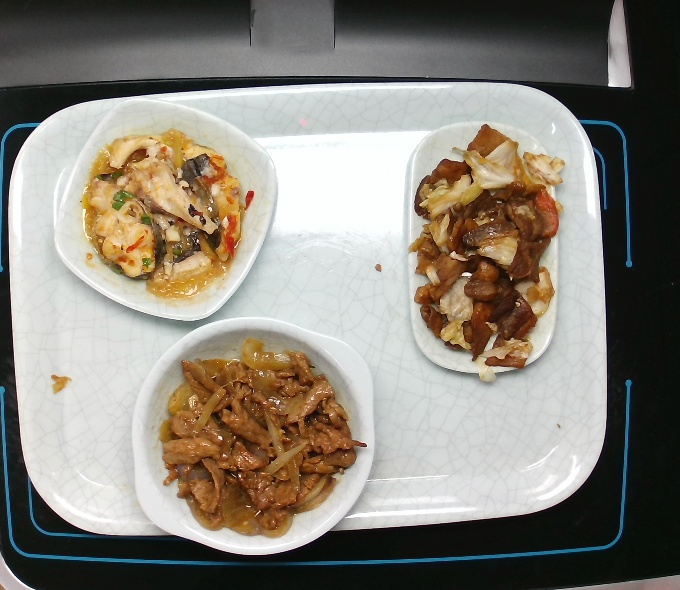wcq-DuoJiaoYuKuai: (79, 126, 251, 298)
wcq-PaoCaiRouPian: (408, 134, 562, 375)
wcq-YangCongRouPian: (163, 346, 350, 539)
